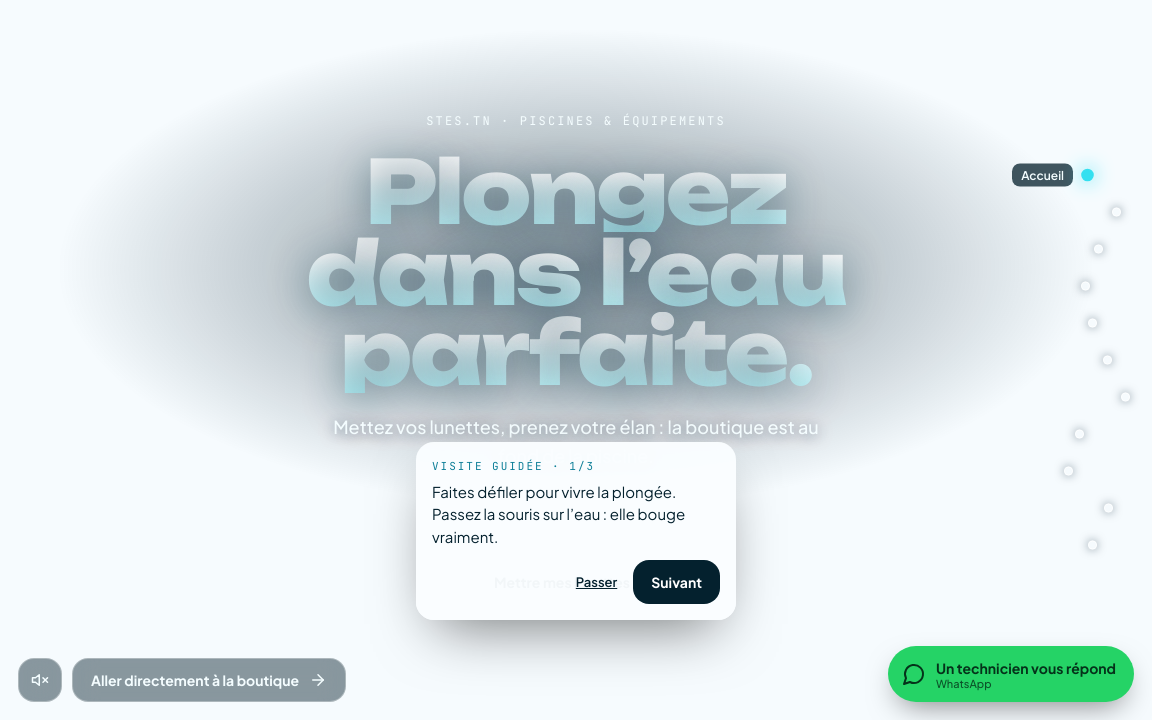
Test: home page (Plongée) › guides first-time visitors once
The width and height of the screenshot is (1152, 720).
Expected: the dialog "Visite guidée" shows "Faites défiler", [432,482,685,546]
Click the button "Passer" at (597, 582), box [566,564,627,600]
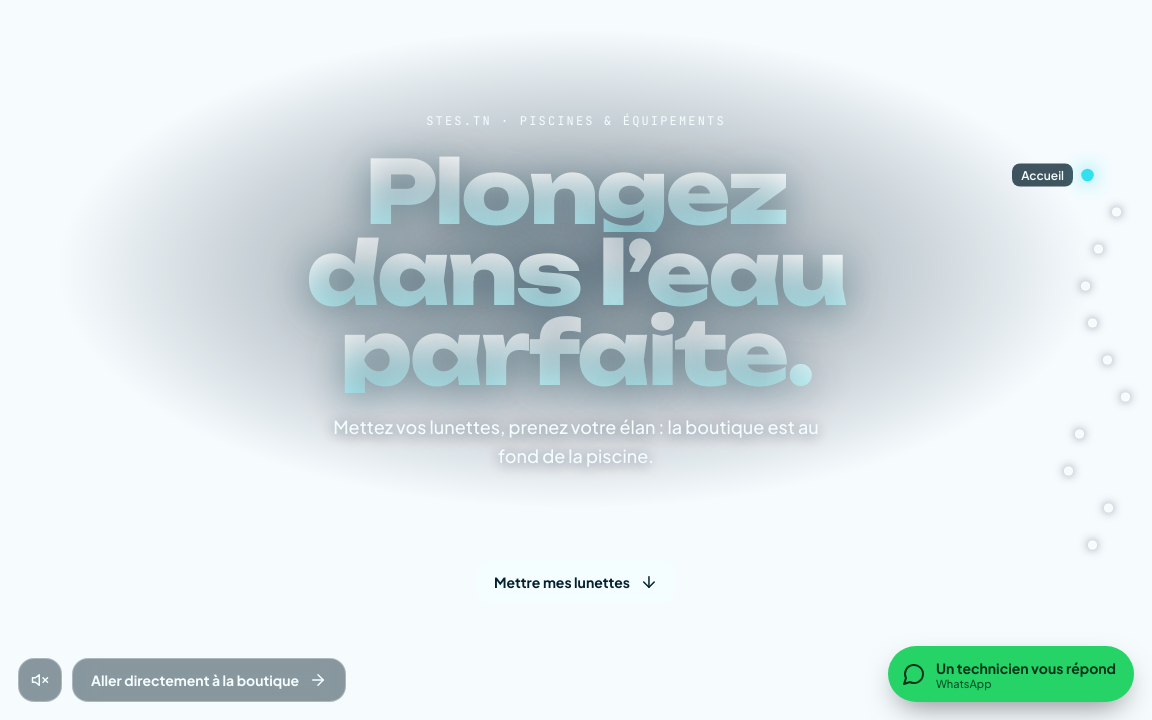
Now the text "Visite guidée" is gone
